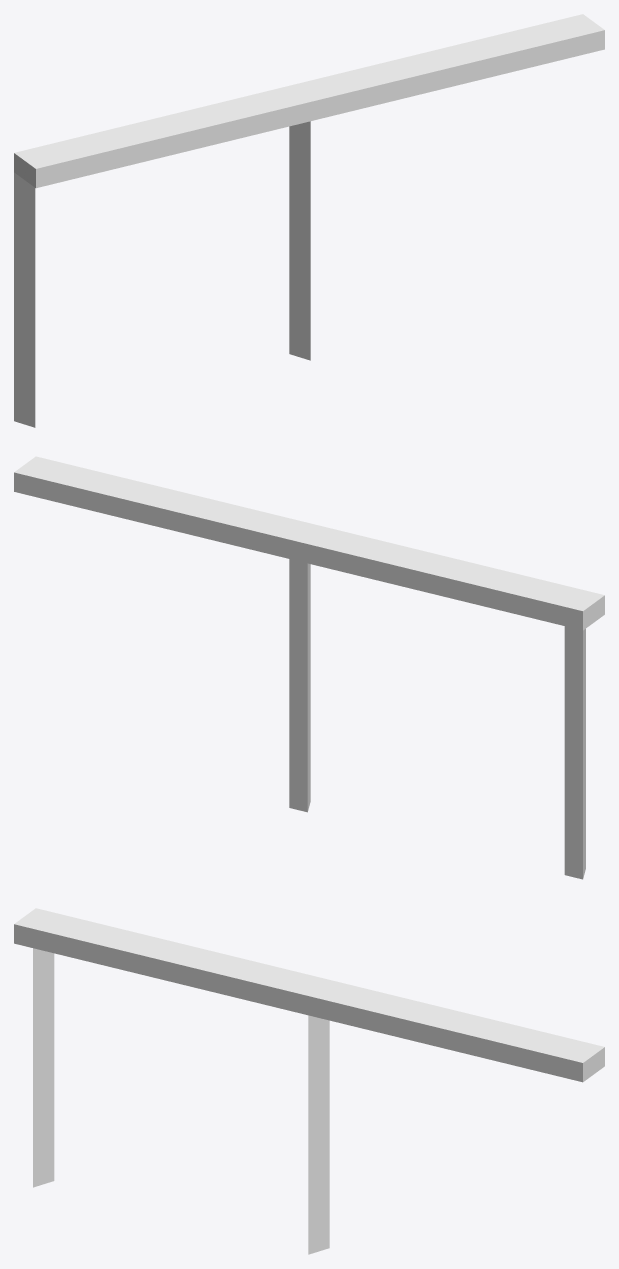
Rendered from DockARailStraightA.fbx.
3 views of the same model, one above another, from view 1: azimuth 30°, elevation 25°; view 2: azimuth 150°, elevation 25°; view 3: azimuth 330°, elevation 25° (orthographic).
Visible parts, largest first — view 1: DockARailStraightA; view 2: DockARailStraightA; view 3: DockARailStraightA.
Boxes of the visible parts, x1=… form: DockARailStraightA: x1=14, y1=14, x2=604, y2=427; DockARailStraightA: x1=14, y1=456, x2=604, y2=879; DockARailStraightA: x1=14, y1=908, x2=604, y2=1254.
Size of the model in its own units: 275 by 124 by 18.36.
Materials: 1 (1 with a texture image).
